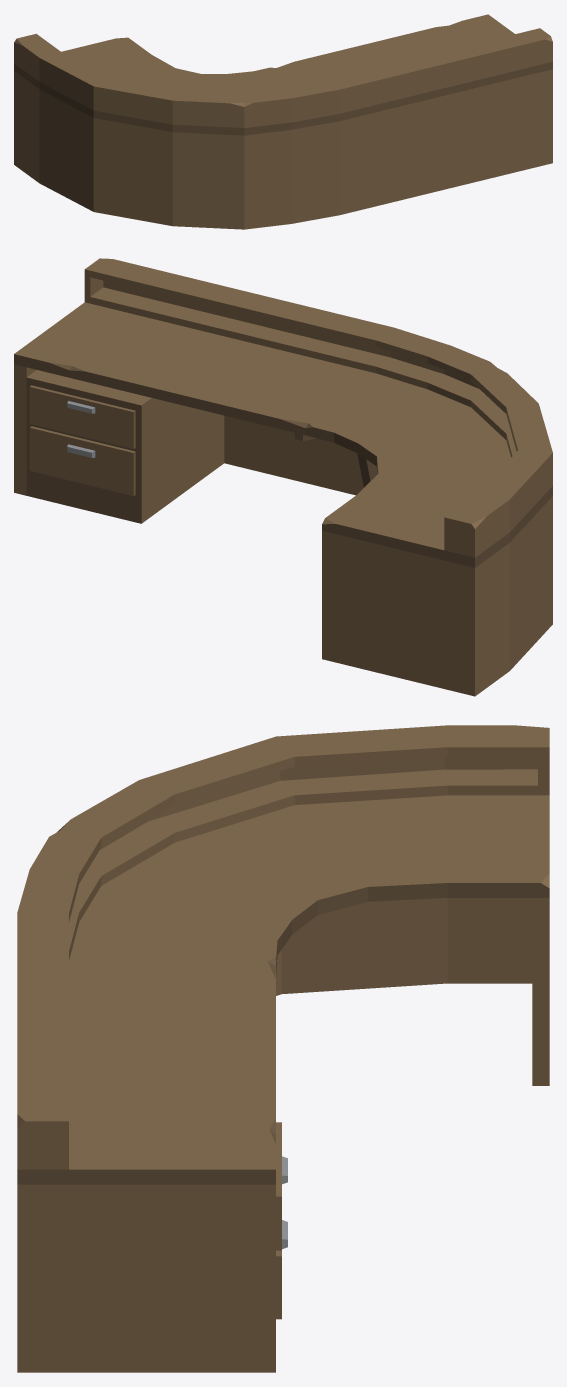
Rendered from SM_Prop_Desk_06.glb.
The picture shows the model from 3 angles, top to bottom: view 1: azimuth 30°, elevation 25°; view 2: azimuth 150°, elevation 25°; view 3: azimuth 270°, elevation 25°; orthographic projection. The views are drawn at different scales.
Parts seen in each view (by area): view 1: SM_Prop_Desk_06; view 2: SM_Prop_Desk_06; view 3: SM_Prop_Desk_06.
Boxes of the visible parts, x1=… form: SM_Prop_Desk_06: x1=14, y1=14, x2=552, y2=229; SM_Prop_Desk_06: x1=14, y1=258, x2=552, y2=696; SM_Prop_Desk_06: x1=17, y1=725, x2=549, y2=1372.
Size of the model in its own units: 3.14 by 0.9281 by 1.78.
Materials: 1 (1 with a texture image).
